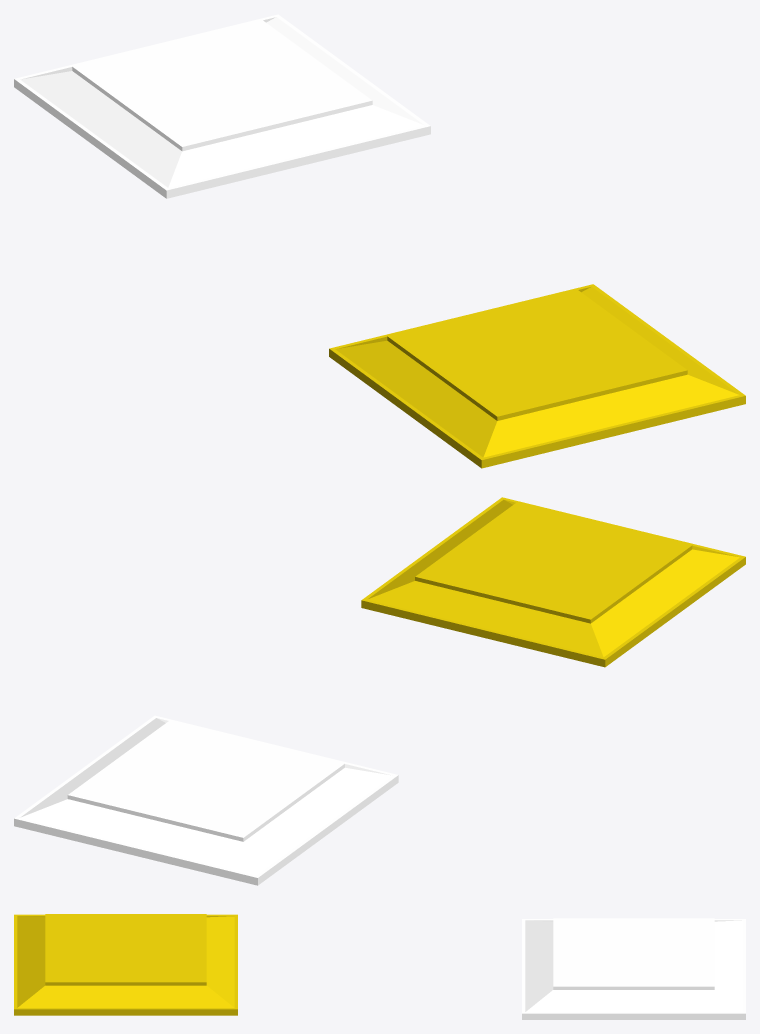
Rendered from bottomAplication.glb.
3 views of the same model, one above another, from view 1: azimuth 30°, elevation 25°; view 2: azimuth 150°, elevation 25°; view 3: azimuth 270°, elevation 25° (orthographic). The views are drawn at different scales.
Parts seen in each view (by area): view 1: Apl, Apl.001; view 2: Apl, Apl.001; view 3: Apl.001, Apl.
Part boxes in pixels (bbox=[...]): Apl: bbox=[14, 14, 430, 198]; Apl.001: bbox=[329, 284, 745, 468]; Apl: bbox=[14, 715, 398, 885]; Apl.001: bbox=[361, 497, 745, 667]; Apl.001: bbox=[14, 914, 237, 1015]; Apl: bbox=[522, 918, 745, 1019].
Size of the model in its own units: 1.12 by 0.1311 by 3.27.
